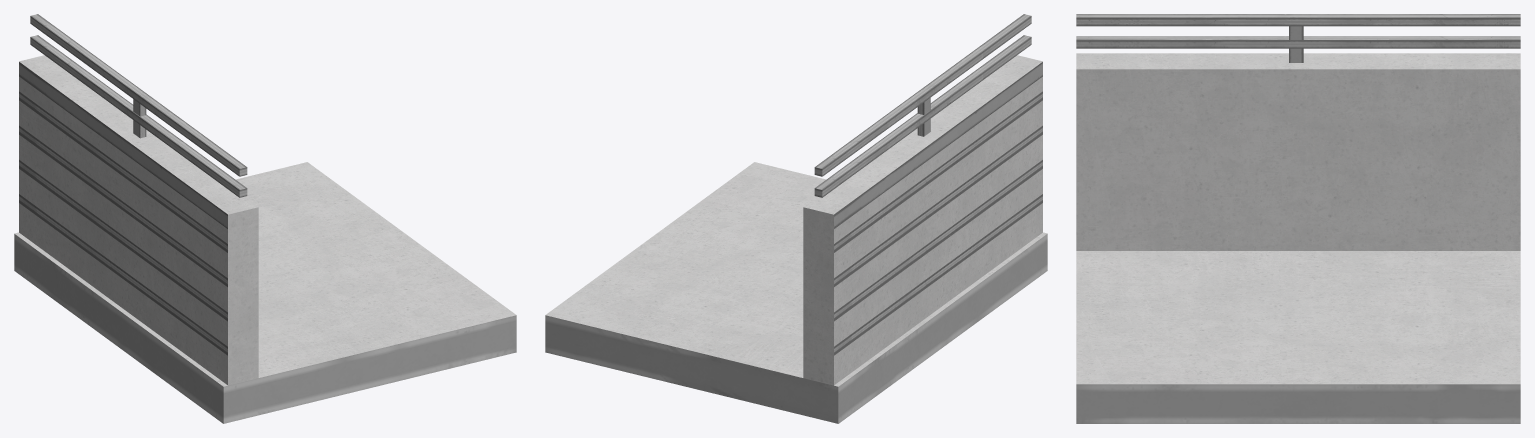
Rendered from MB_Balcony_2m.fbx.
3 renders of one model, left to right at view 1: azimuth 30°, elevation 25°; view 2: azimuth 150°, elevation 25°; view 3: azimuth 270°, elevation 25°, orthographic. The views are drawn at different scales.
Parts seen in each view (by area): view 1: MB_Balcony_2m; view 2: MB_Balcony_2m; view 3: MB_Balcony_2m.
Part boxes in pixels (left/top/right/bottom): MB_Balcony_2m: left=14, top=14, right=516, bottom=423; MB_Balcony_2m: left=545, top=14, right=1047, bottom=423; MB_Balcony_2m: left=1076, top=14, right=1520, bottom=423.
Bounding box in the file's own units: 162 × 132 × 200.
